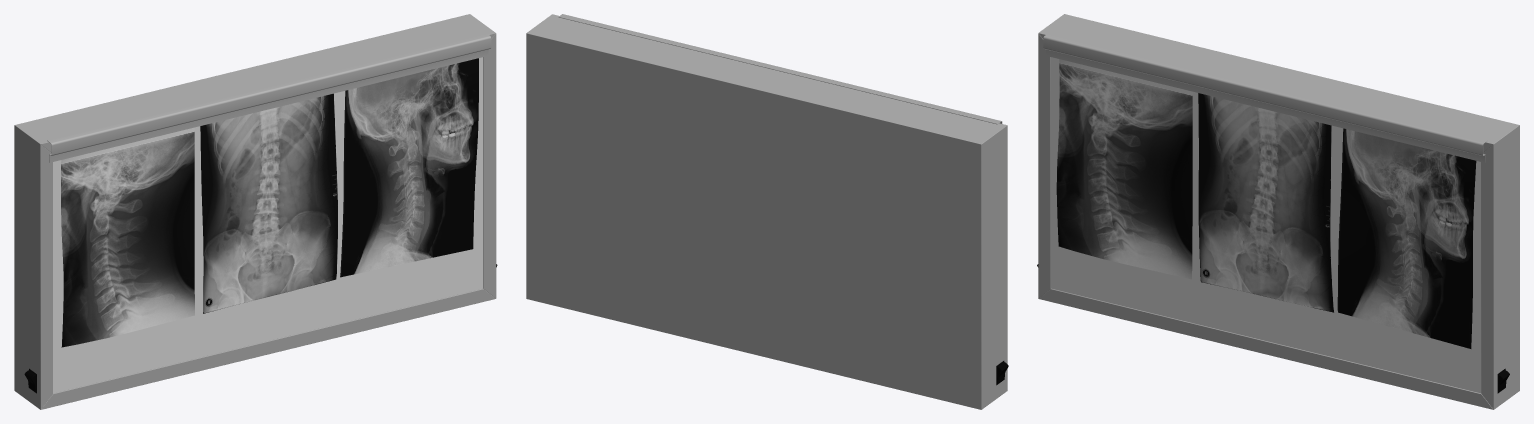
Rendered from x_ray_lightbox.fbx.
3 renders of one model, left to right at view 1: azimuth 30°, elevation 25°; view 2: azimuth 150°, elevation 25°; view 3: azimuth 330°, elevation 25°, orthographic.
Parts seen in each view (by area): view 1: x_ray_lightbox; view 2: x_ray_lightbox; view 3: x_ray_lightbox.
Boxes of the visible parts, <box> form: x_ray_lightbox: <box>14,14,497,409</box>; x_ray_lightbox: <box>526,14,1008,409</box>; x_ray_lightbox: <box>1037,14,1519,409</box>.
Bounding box in the file's own units: 104 × 56.93 × 11.31.
6 materials, 3 textured.
